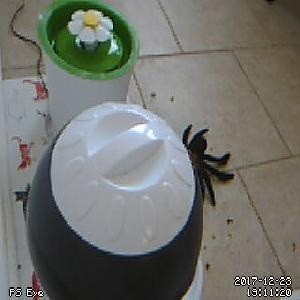fountain: (34, 1, 138, 81)
